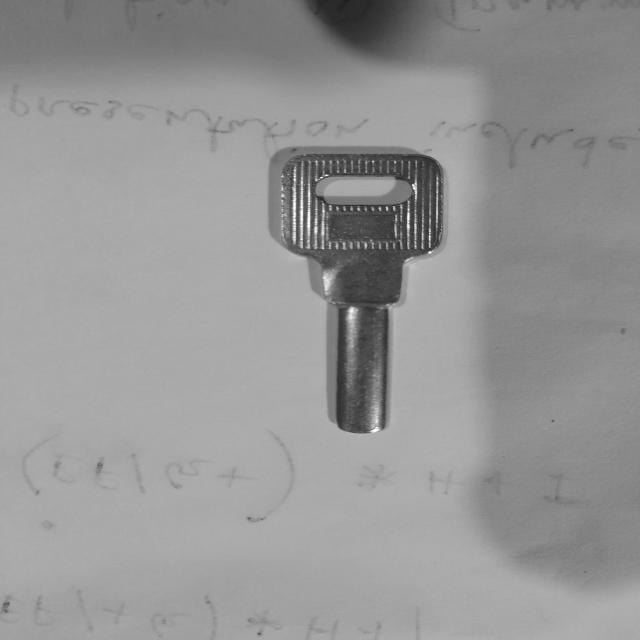key: (281, 154, 443, 433)
